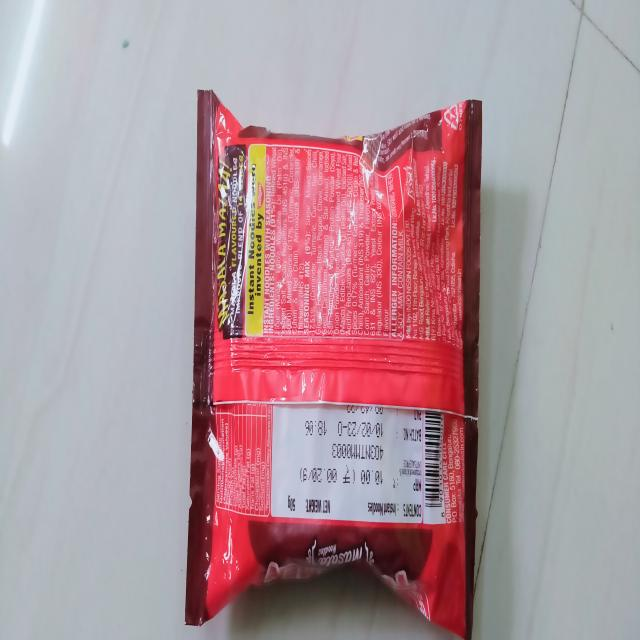maggi: (185, 75, 485, 638)
